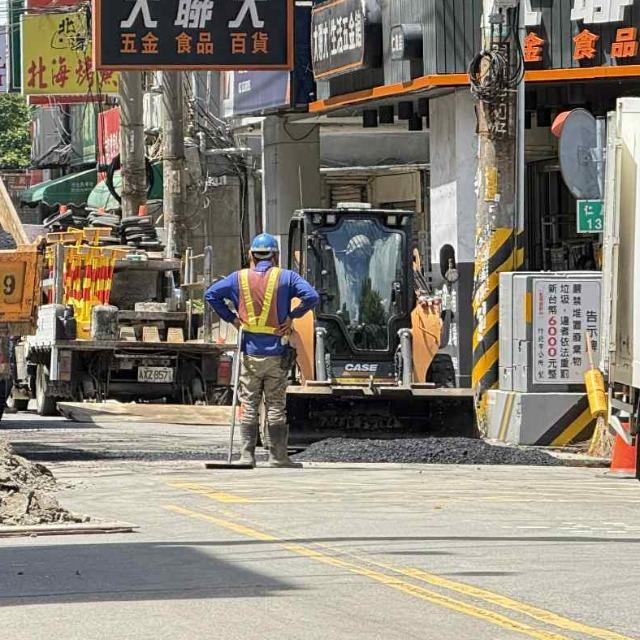Vest: (229, 265, 298, 352)
